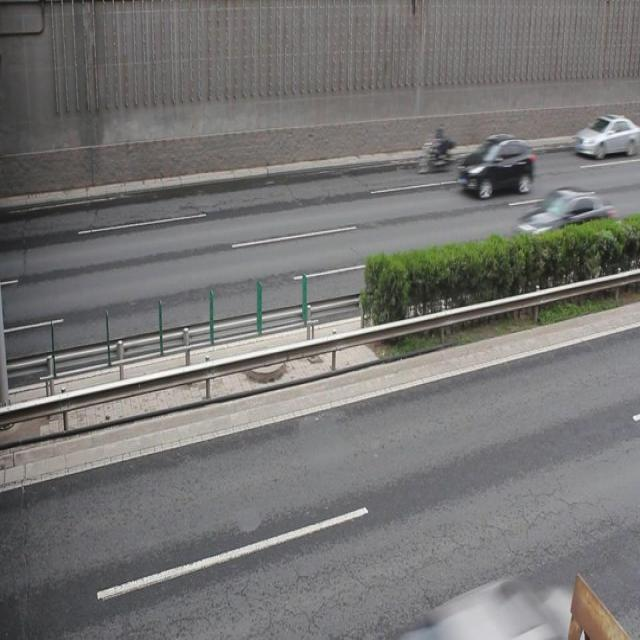car: (424, 577, 586, 640), (515, 186, 612, 258), (457, 133, 535, 200), (571, 113, 640, 158)
